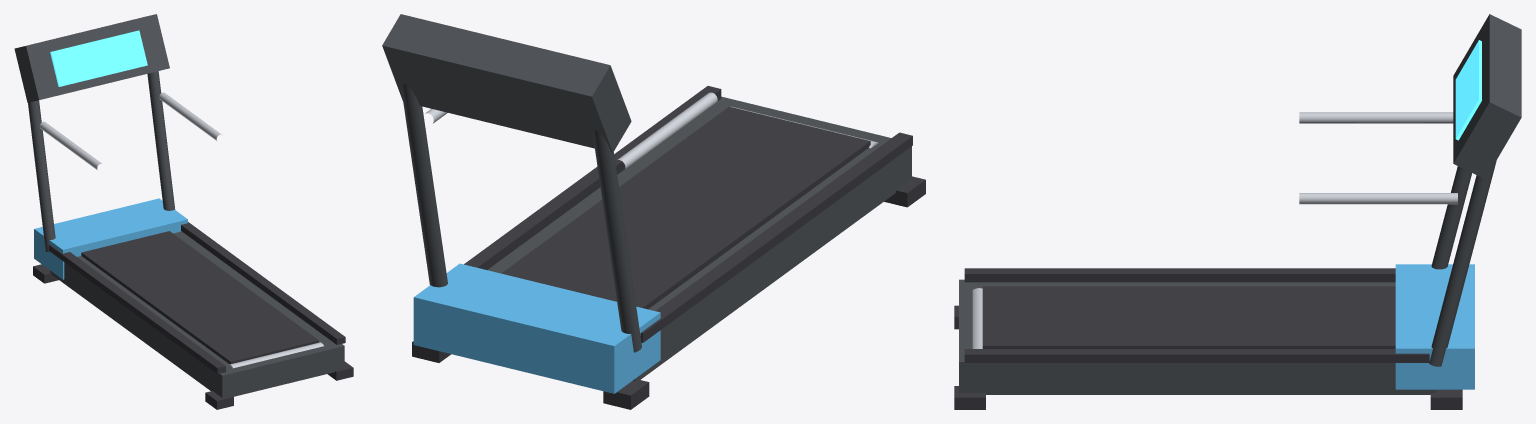
File: treadmill.glb
3 views of the same model, side by side, from view 1: azimuth 30°, elevation 25°; view 2: azimuth 150°, elevation 25°; view 3: azimuth 270°, elevation 25° (orthographic). The views are drawn at different scales.
Bounding box in the file's own units: 0.96 × 1.49 × 2.5.
